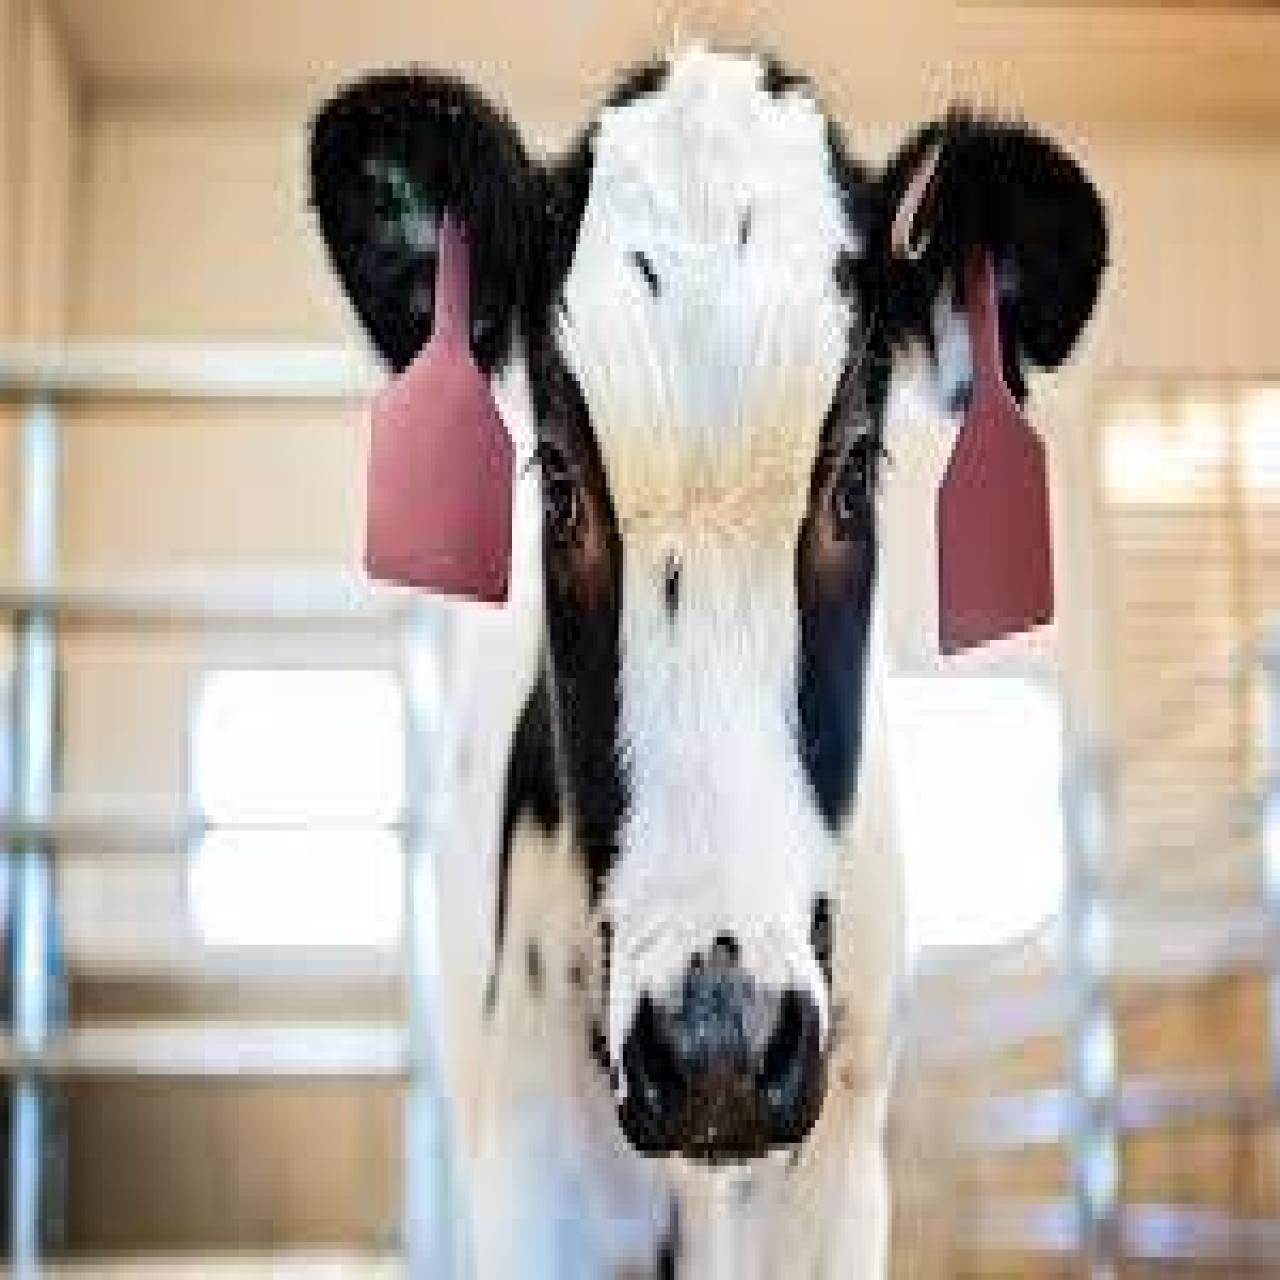cow: (318, 61, 1099, 1280)
